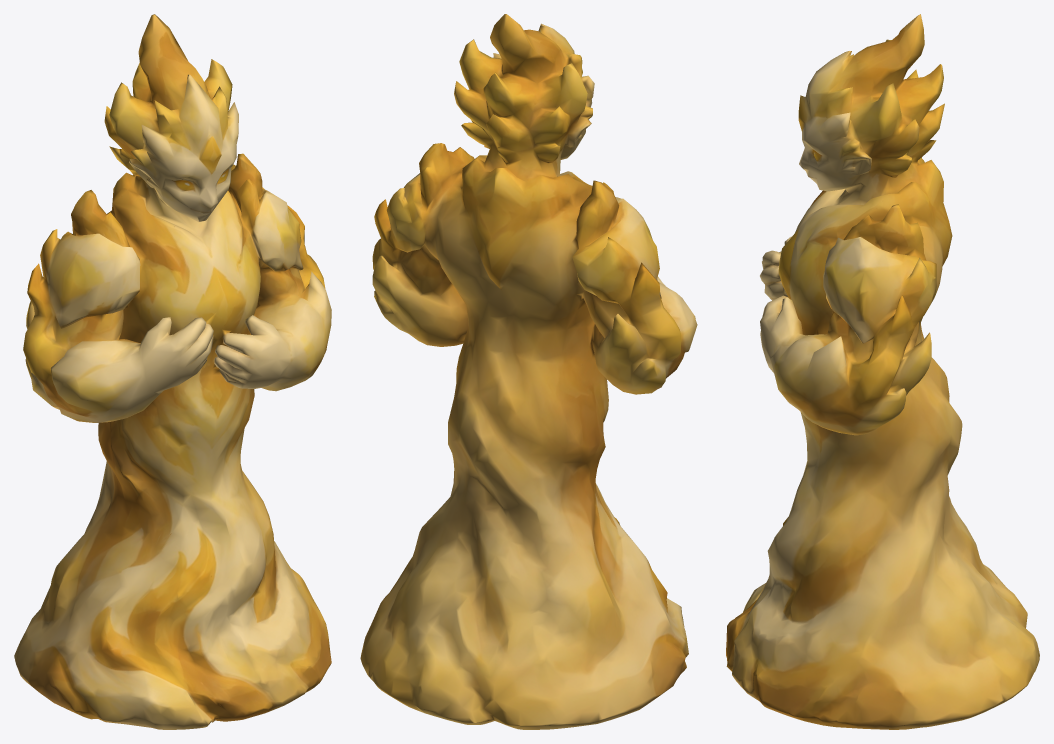
The model's file is light-elemental.glb.
3 views of the same model, side by side, from view 1: azimuth 30°, elevation 25°; view 2: azimuth 150°, elevation 25°; view 3: azimuth 270°, elevation 25° (orthographic). The views are drawn at different scales.
Parts seen in each view (by area): view 1: tripo_node_f9959e57-7015-4234-8df4-ef9363416437; view 2: tripo_node_f9959e57-7015-4234-8df4-ef9363416437; view 3: tripo_node_f9959e57-7015-4234-8df4-ef9363416437.
Part boxes in pixels (left/top/right/bottom): tripo_node_f9959e57-7015-4234-8df4-ef9363416437: left=14, top=14, right=331, bottom=729; tripo_node_f9959e57-7015-4234-8df4-ef9363416437: left=360, top=14, right=697, bottom=729; tripo_node_f9959e57-7015-4234-8df4-ef9363416437: left=726, top=14, right=1039, bottom=729.
Size of the model in its own units: 0.4732 by 0.9769 by 0.4239.
Materials: 1 (1 with a texture image).
